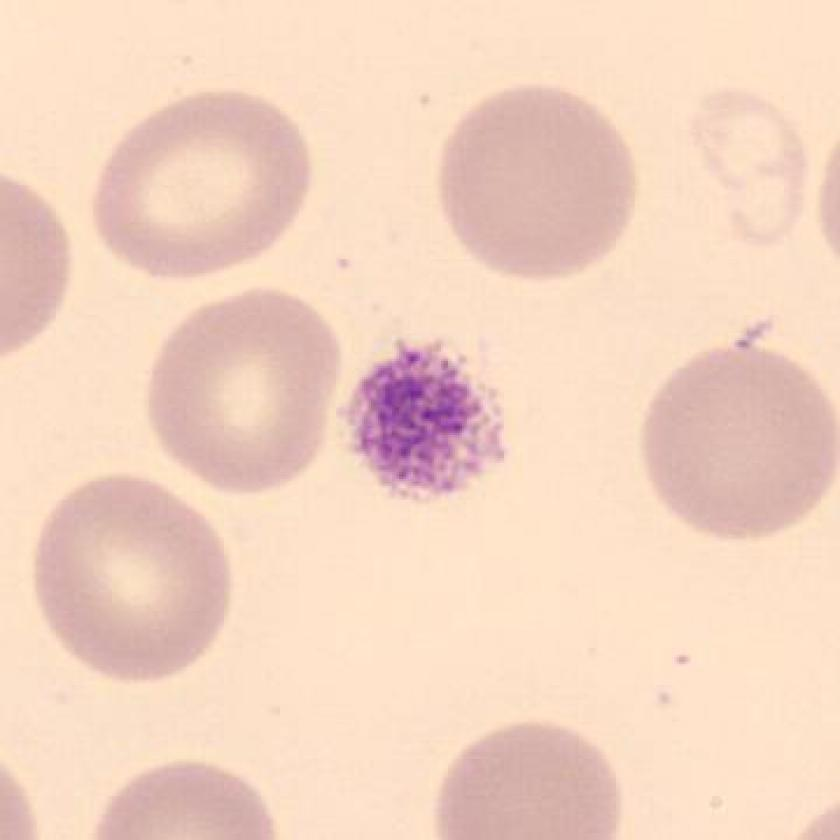platelets: (339, 334, 519, 510)
